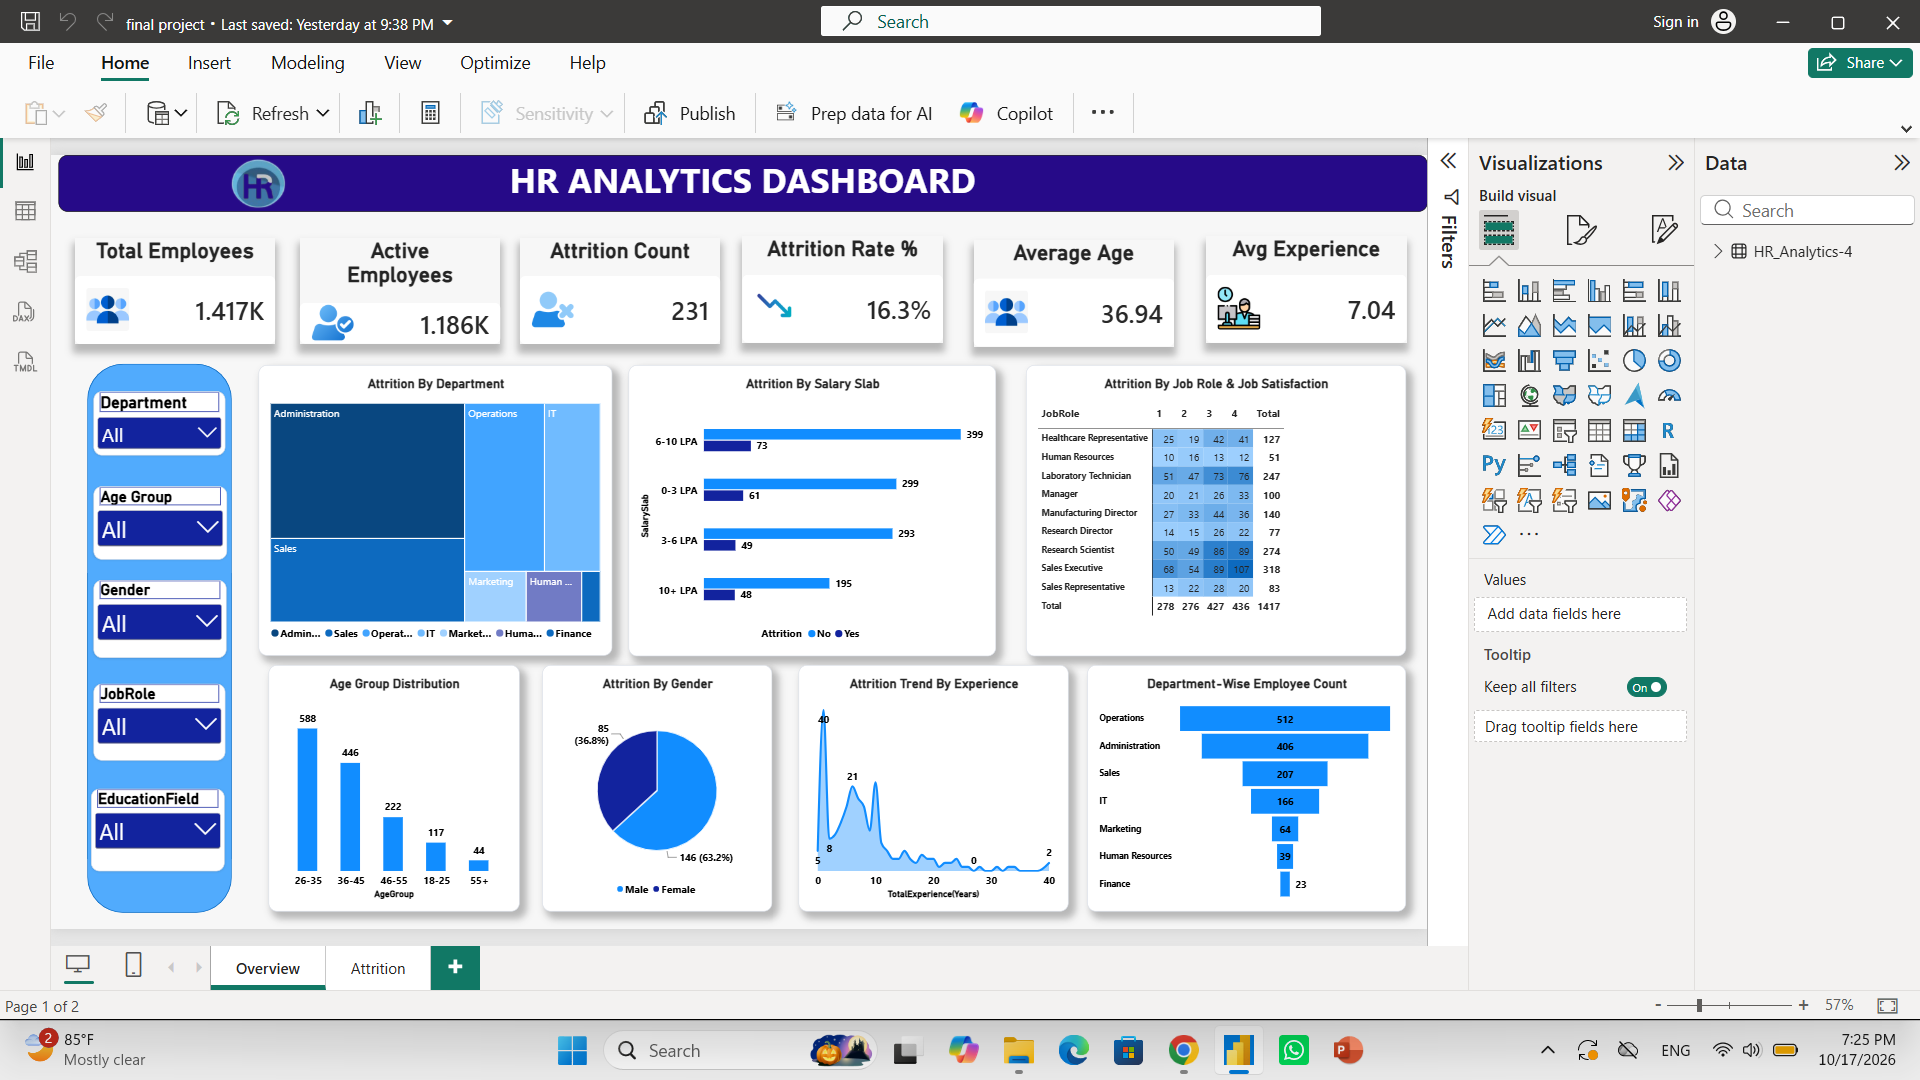

This screenshot's page, from the dashboard's own definition file:
{"tool":"powerbi","page":{"name":"Overview","canvas":[1920,1080],"ordinal":0},"visuals":[{"type":"shape","box":[51.1,291.1,201.8,766.2],"z":0},{"type":"textbox","box":[10.3,0,1910,79],"z":1000},{"type":"cardVisual","title":"Total Employees","fields":{"Data":["CountNonNull(HR_Analytics-4.EmpID)"]},"box":[33.4,114.8,280,149],"z":2000},{"type":"cardVisual","title":"Attrition Rate %","fields":{"Data":["HR_Analytics-4.Attrition Rate %"]},"box":[965.4,113.2,280,149],"z":3000},{"type":"cardVisual","title":"Attrition Count","fields":{"Data":["Sum(HR_Analytics-4.AttritionCount)"]},"box":[654.5,115.3,280,149],"z":4000},{"type":"cardVisual","title":"Active Employees","fields":{"Data":["CountNonNull(HR_Analytics-4.EmployeeCount)"]},"box":[346.5,114.8,280,149],"z":5000},{"type":"cardVisual","title":"Average Age","fields":{"Data":["Avg(HR_Analytics-4.Age)"]},"box":[1287.9,119,280,149],"z":6000},{"type":"cardVisual","title":"Avg Experience","fields":{"Data":["Avg(HR_Analytics-4.YearsatCompany)"]},"box":[1611.5,112.7,280,149],"z":7000},{"type":"treemap","title":"Attrition By Department","fields":{"Group":["HR_Analytics-4.Department"],"Values":["Sum(HR_Analytics-4.AttritionCount)"]},"box":[290.2,292.3,494,405.5],"z":8000},{"type":"clusteredBarChart","title":"Attrition By Salary Slab","fields":{"Y":["CountNonNull(HR_Analytics-4.EmpID)"],"Category":["HR_Analytics-4.SalarySlab"],"Series":["HR_Analytics-4.Attrition"]},"box":[805.8,293,512.8,406.4],"z":9000},{"type":"pivotTable","title":"Attrition By Job Role & Job Satisfaction","fields":{"Rows":["HR_Analytics-4.JobRole"],"Columns":["HR_Analytics-4.JobSatisfaction"],"Values":["CountNonNull(HR_Analytics-4.EmpID)"]},"box":[1360.5,293,530.2,406.4],"z":10000},{"type":"columnChart","title":"Age Group Distribution ","fields":{"Category":["HR_Analytics-4.AgeGroup"],"Y":["Sum(HR_Analytics-4.EmployeeCount)"]},"box":[303.5,711.6,350.6,343.6],"z":11000},{"type":"pieChart","title":"Attrition By Gender","fields":{"Category":["HR_Analytics-4.Gender"],"Y":["Sum(HR_Analytics-4.AttritionCount)"]},"box":[685.5,711.6,320.9,343.6],"z":12000},{"type":"areaChart","title":"Attrition Trend By Experience ","fields":{"Y":["Sum(HR_Analytics-4.AttritionCount)"],"Category":["HR_Analytics-4.TotalExperience(Years)"]},"box":[1043,711.6,376.7,343.6],"z":13000},{"type":"funnel","title":"Department-Wise Employee Count","fields":{"Y":["CountNonNull(HR_Analytics-4.EmpID)"],"Category":["HR_Analytics-4.Department"]},"box":[1445.9,711.6,444.8,343.6],"z":14000},{"type":"slicer","fields":{"Values":["HR_Analytics-4.Department"]},"box":[58.7,329.5,183.9,89.4],"z":15000},{"type":"slicer","fields":{"Values":["HR_Analytics-4.AgeGroup"]},"box":[58.7,462.3,186.4,102.2],"z":16000},{"type":"slicer","fields":{"Values":["HR_Analytics-4.Gender"]},"box":[58.7,592.5,185.2,109.1],"z":18000},{"type":"slicer","fields":{"Values":["HR_Analytics-4.JobRole"]},"box":[58.7,738.1,183.9,107.3],"z":19000},{"type":"slicer","fields":{"Values":["HR_Analytics-4.EducationField"]},"box":[56.2,883.6,186.4,114.9],"z":20000},{"type":"image","box":[244.9,0,92.6,78.2],"z":21000}]}

Visuals, with their boxes on the page's 1920x1080 design canvas (x1, y1, x2, y2). These are canvas units, not pixel positions in the 1920x1080 screenshot, which may show the page scaled, cropped or inside an application window:
shape: x1=51 y1=291 x2=253 y2=1057
textbox: x1=10 y1=0 x2=1920 y2=79
"Total Employees" cardVisual: x1=33 y1=115 x2=313 y2=264
"Attrition Rate %" cardVisual: x1=965 y1=113 x2=1245 y2=262
"Attrition Count" cardVisual: x1=654 y1=115 x2=934 y2=264
"Active Employees" cardVisual: x1=346 y1=115 x2=626 y2=264
"Average Age" cardVisual: x1=1288 y1=119 x2=1568 y2=268
"Avg Experience" cardVisual: x1=1612 y1=113 x2=1892 y2=262
"Attrition By Department" treemap: x1=290 y1=292 x2=784 y2=698
"Attrition By Salary Slab" clusteredBarChart: x1=806 y1=293 x2=1319 y2=699
"Attrition By Job Role & Job Satisfaction" pivotTable: x1=1360 y1=293 x2=1891 y2=699
"Age Group Distribution " columnChart: x1=304 y1=712 x2=654 y2=1055
"Attrition By Gender" pieChart: x1=686 y1=712 x2=1006 y2=1055
"Attrition Trend By Experience " areaChart: x1=1043 y1=712 x2=1420 y2=1055
"Department-Wise Employee Count" funnel: x1=1446 y1=712 x2=1891 y2=1055
slicer - HR_Analytics-4.Department: x1=59 y1=330 x2=243 y2=419
slicer - HR_Analytics-4.AgeGroup: x1=59 y1=462 x2=245 y2=564
slicer - HR_Analytics-4.Gender: x1=59 y1=592 x2=244 y2=702
slicer - HR_Analytics-4.JobRole: x1=59 y1=738 x2=243 y2=845
slicer - HR_Analytics-4.EducationField: x1=56 y1=884 x2=243 y2=998
image: x1=245 y1=0 x2=338 y2=78
